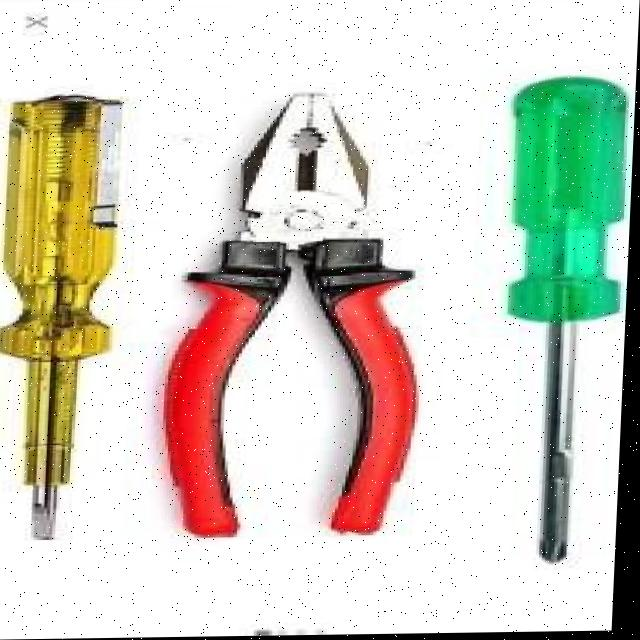Screwdriver: (511, 80, 627, 563), (3, 96, 122, 539)
